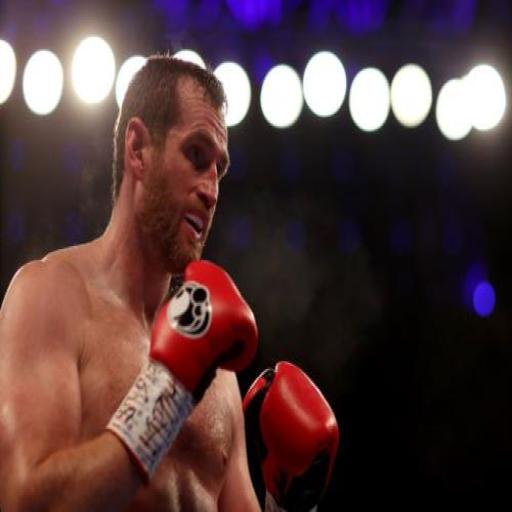boxing: (0, 51, 340, 510)
